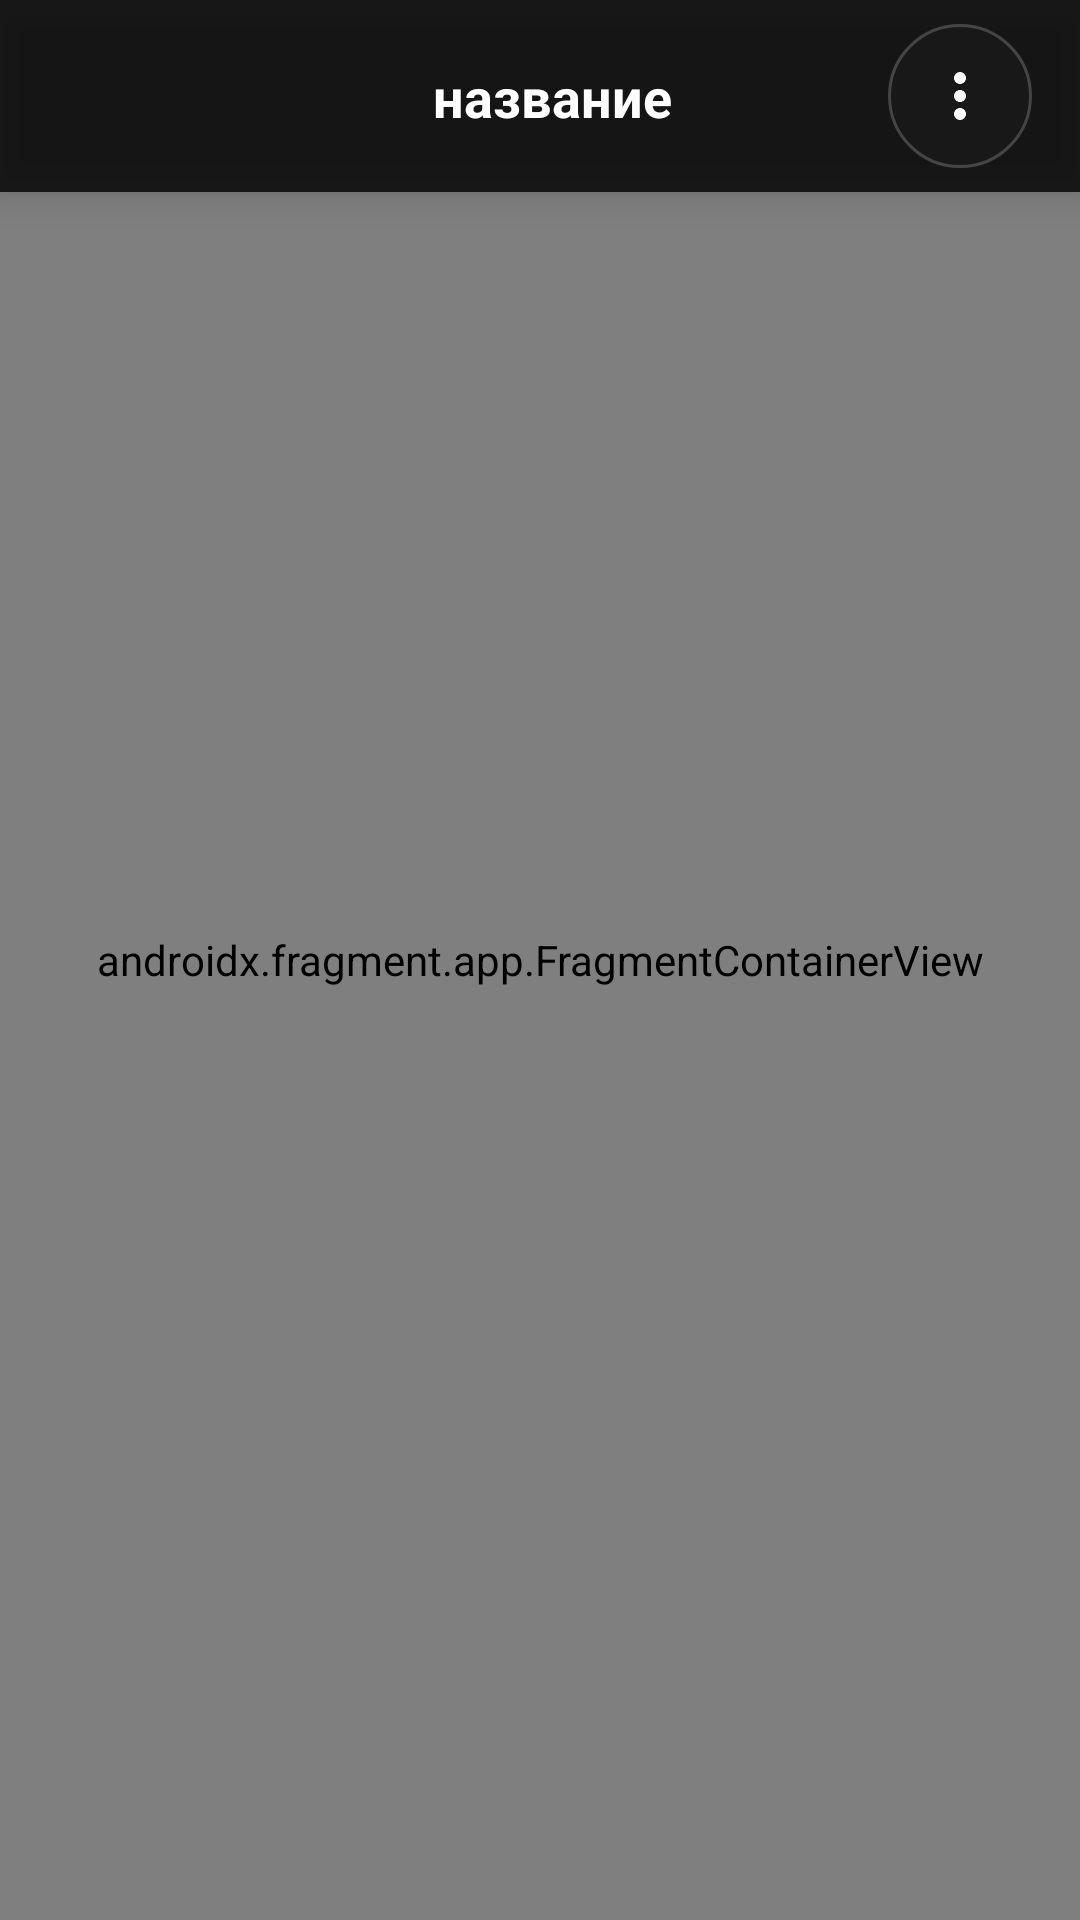

Screen size 1080x1920. Icon name, then its center in pixels as (x=x, y=y):
Открыть меню: (x=960, y=96)
